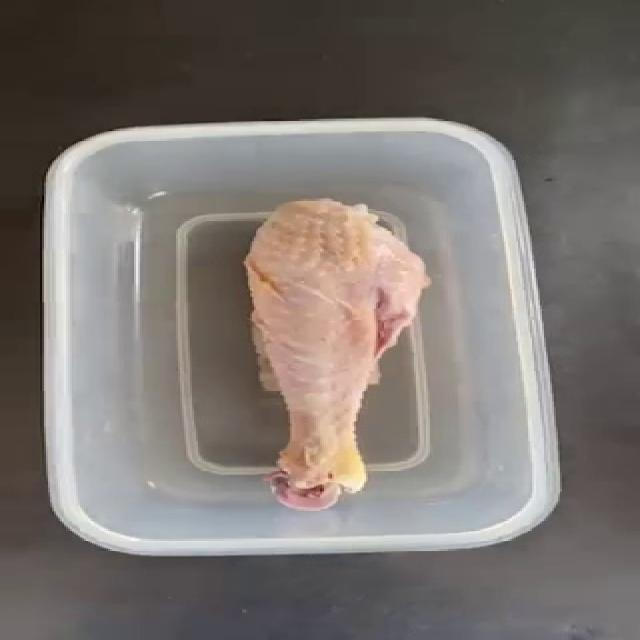chicken: (242, 196, 430, 511)
